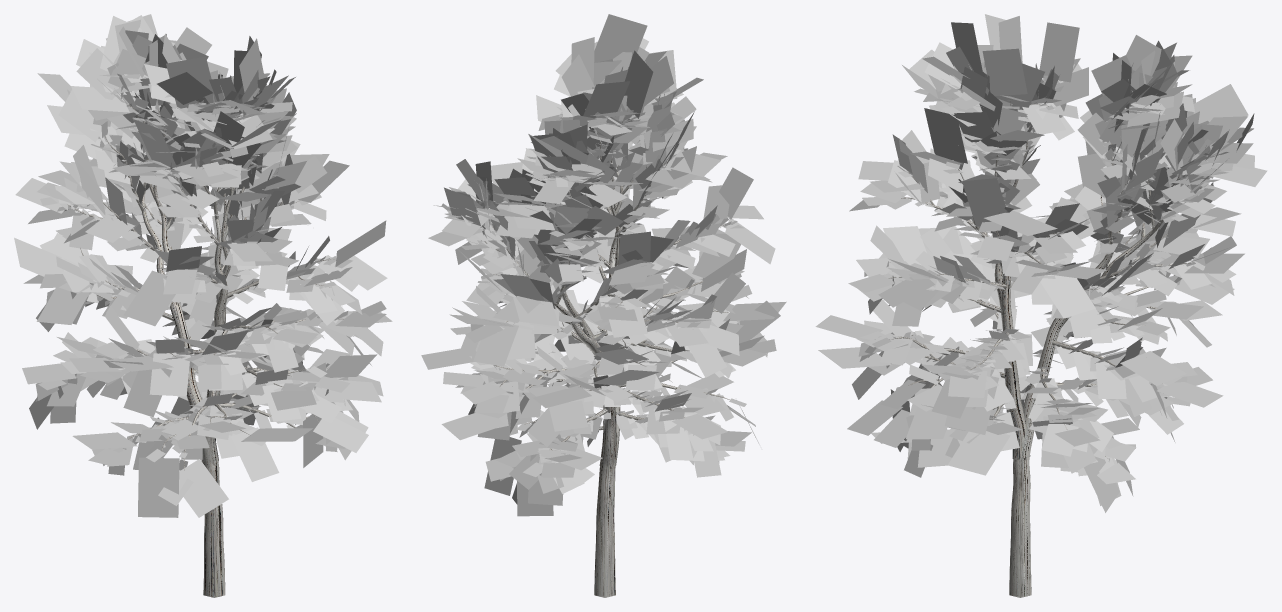
File: drzewoDEL.fbx
The picture shows the model from 3 angles, left to right: view 1: azimuth 30°, elevation 25°; view 2: azimuth 150°, elevation 25°; view 3: azimuth 270°, elevation 25°; orthographic projection. The views are drawn at different scales.
Parts seen in each view (by area): view 1: leaves, tree; view 2: leaves, tree; view 3: leaves, tree.
Part boxes in pixels (x1,y1,x2,y2): leaves: (14,14,392,517); tree: (62,74,344,597); leaves: (421,14,786,516); tree: (484,108,730,597); leaves: (815,14,1267,512); tree: (880,95,1207,597).
Bounding box in the file's own units: 565 × 1001 × 709.
